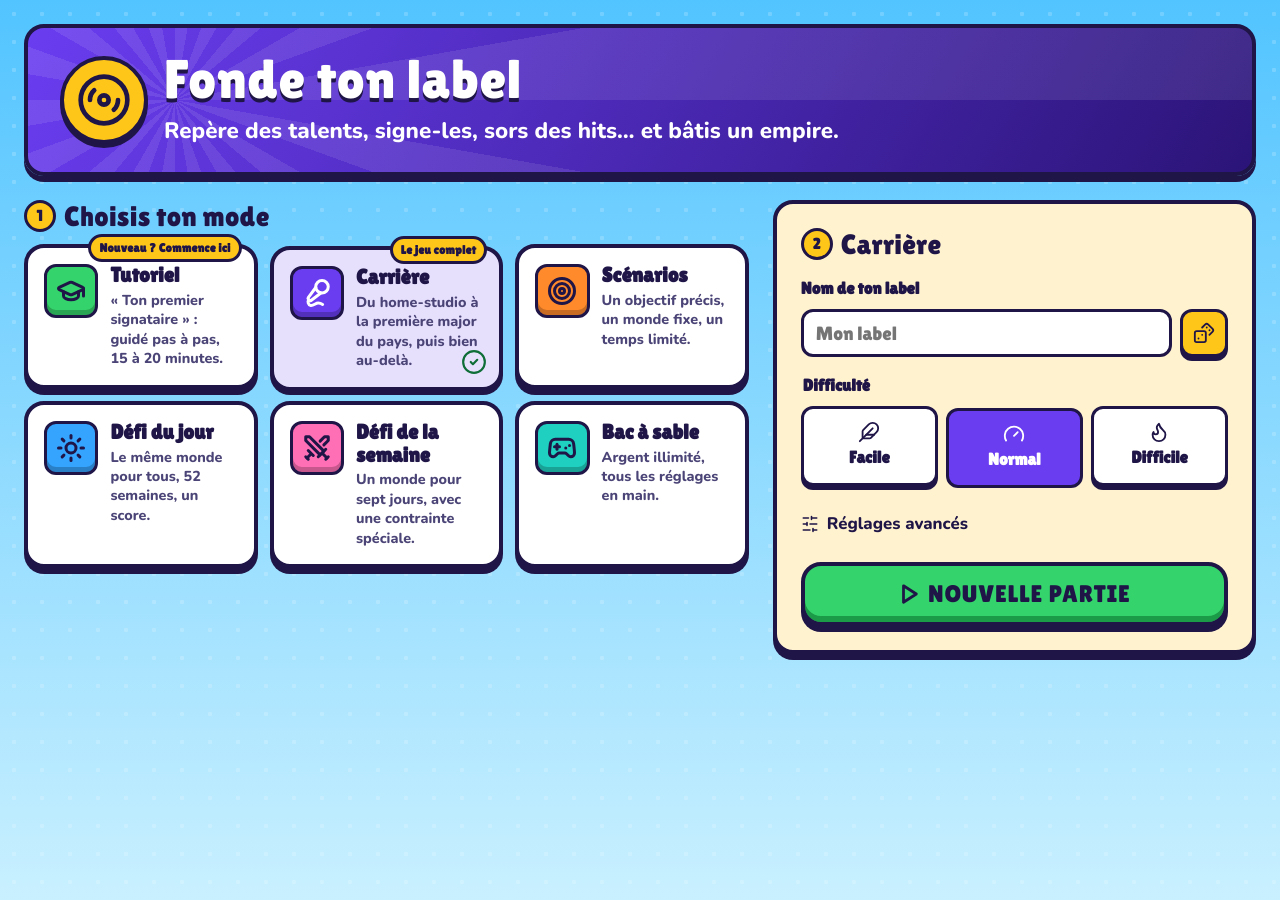
coquille du jeu › propose de fonder un label, puis affiche le bandeau et la navigation
Click the button "Nouvelle partie".
click(1014, 594)  # box [801,562,1228,626]
(page scrolled)
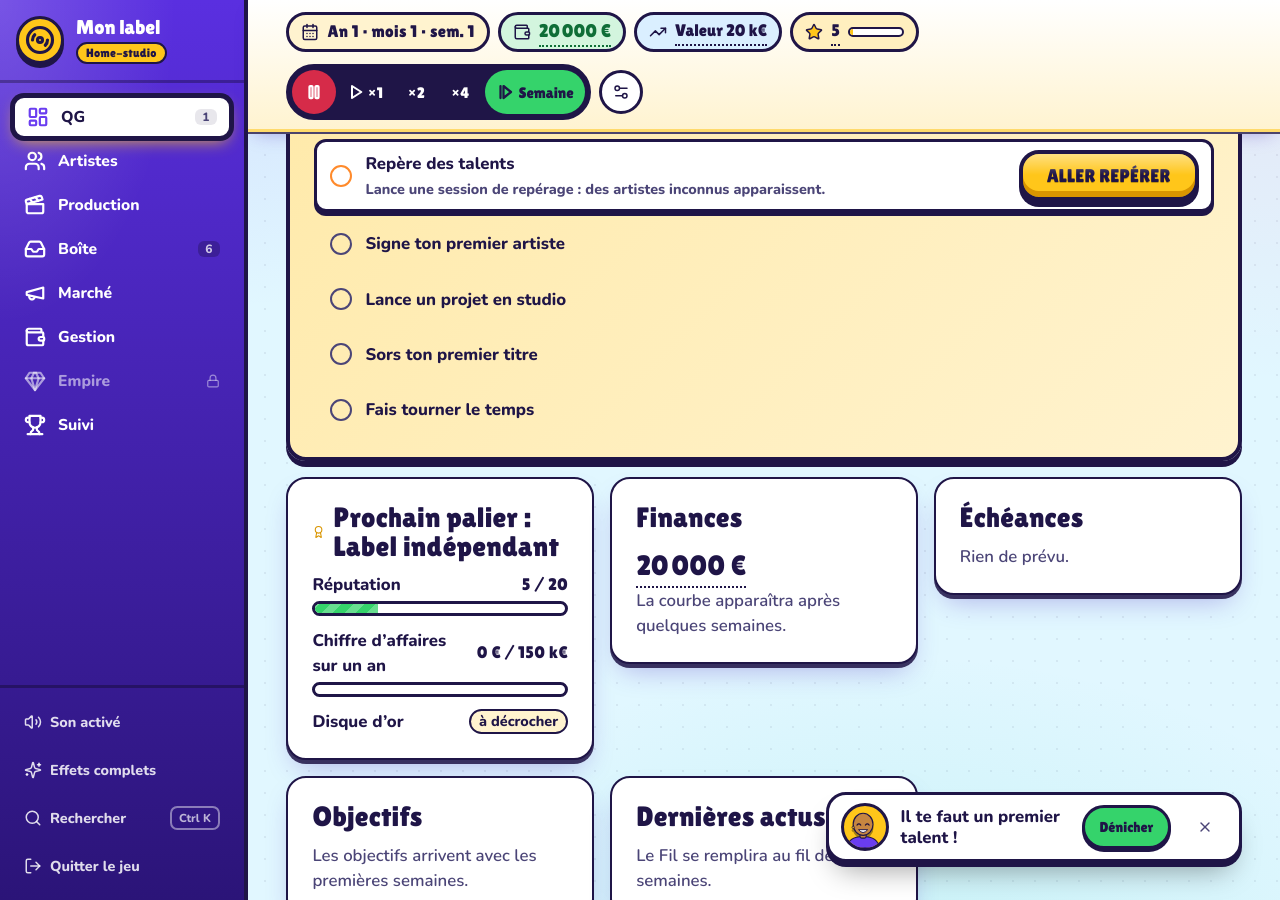
Now the navigation bar named "Écrans du jeu" is shown, box [12,95,232,447]
Now the element named "Trésorerie" shows "€", box [539,17,611,47]
Now the button "QG 1" is shown, box [12,95,232,139]
